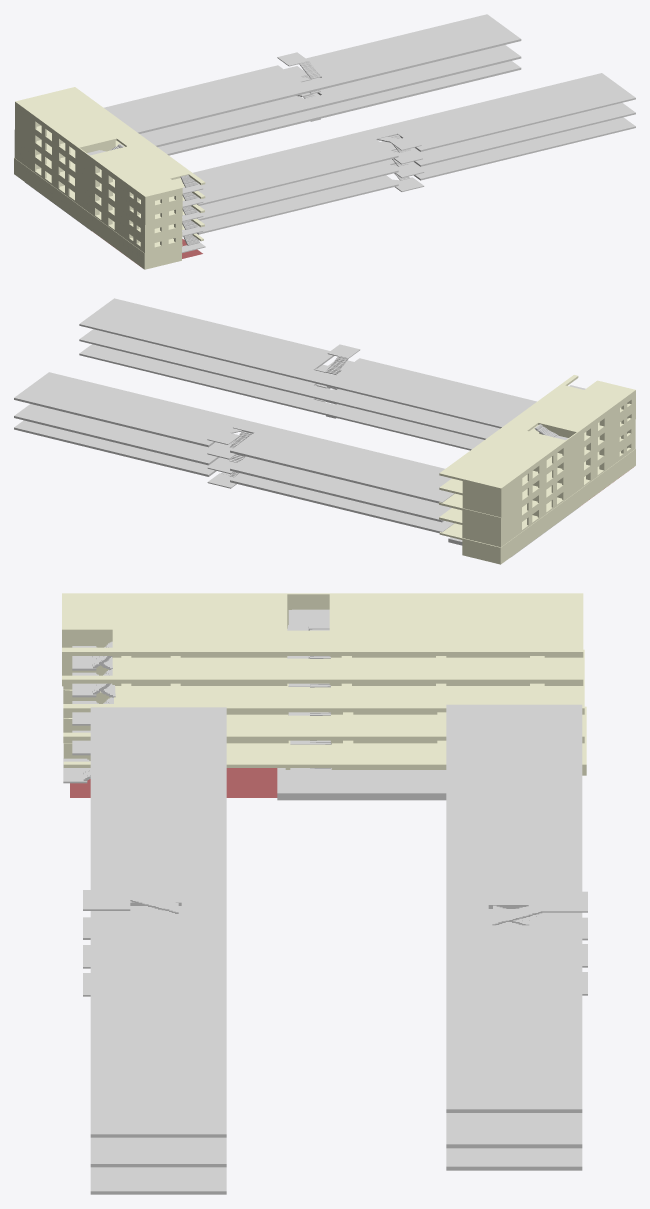
The picture shows the model from 3 angles, top to bottom: view 1: azimuth 30°, elevation 25°; view 2: azimuth 150°, elevation 25°; view 3: azimuth 270°, elevation 25°; orthographic projection. The views are drawn at different scales.
Parts seen in each view (by area): view 1: new_nav-floor, old_nav-floor, Cube.205, old_nav-floor.001, new_nav-floor.001, new_nav-floor.002, old_nav-floor.002, Cube.080, Cube.185, Cube.165, Cube.056; view 2: new_nav-floor, old_nav-floor, Cube.205, old_nav-floor.001, new_nav-floor.001, new_nav-floor.002, old_nav-floor.002, Cube.080, Cube.185, Cube.165, Cube.056; view 3: new_nav-floor, old_nav-floor, Cube.205, Cube.185, Cube.056, Cube.165, Cube.080, old_nav-floor.001, Cube.224, new_nav-floor.001, new_nav-floor.002, old_nav-floor.002 (+3 smaller).
Boxes of the visible parts, box(x1,y1,x2,y2) form: new_nav-floor: box(193, 73, 635, 205); old_nav-floor: box(104, 14, 521, 133); Cube.205: box(15, 87, 205, 210); old_nav-floor.001: box(140, 45, 521, 147); new_nav-floor.001: box(197, 102, 635, 220); new_nav-floor.002: box(197, 117, 635, 234); old_nav-floor.002: box(158, 61, 521, 155); Cube.080: box(14, 157, 203, 269); Cube.185: box(15, 115, 205, 224); Cube.165: box(14, 144, 204, 253); Cube.056: box(14, 129, 204, 239); new_nav-floor: box(79, 298, 536, 428); old_nav-floor: box(14, 372, 454, 503); Cube.205: box(439, 375, 635, 502); old_nav-floor.001: box(14, 404, 451, 522); new_nav-floor.001: box(79, 329, 499, 439); new_nav-floor.002: box(79, 344, 484, 450); old_nav-floor.002: box(14, 420, 454, 533); Cube.080: box(439, 449, 635, 564); Cube.185: box(439, 404, 635, 517); Cube.165: box(439, 434, 635, 547); Cube.056: box(439, 419, 635, 532); new_nav-floor: box(90, 707, 226, 1137); old_nav-floor: box(446, 704, 582, 1112); Cube.205: box(62, 593, 583, 657); Cube.185: box(62, 623, 583, 686); Cube.056: box(63, 649, 584, 714); Cube.165: box(63, 712, 584, 743); Cube.080: box(63, 706, 586, 775); old_nav-floor.001: box(446, 909, 582, 1148); Cube.224: box(277, 768, 446, 800); new_nav-floor.001: box(90, 906, 226, 1167); new_nav-floor.002: box(90, 1167, 226, 1194); old_nav-floor.002: box(446, 1148, 582, 1170).
Size of what is drawn, in the model's own units: 79.71 by 11.29 by 36.44.
